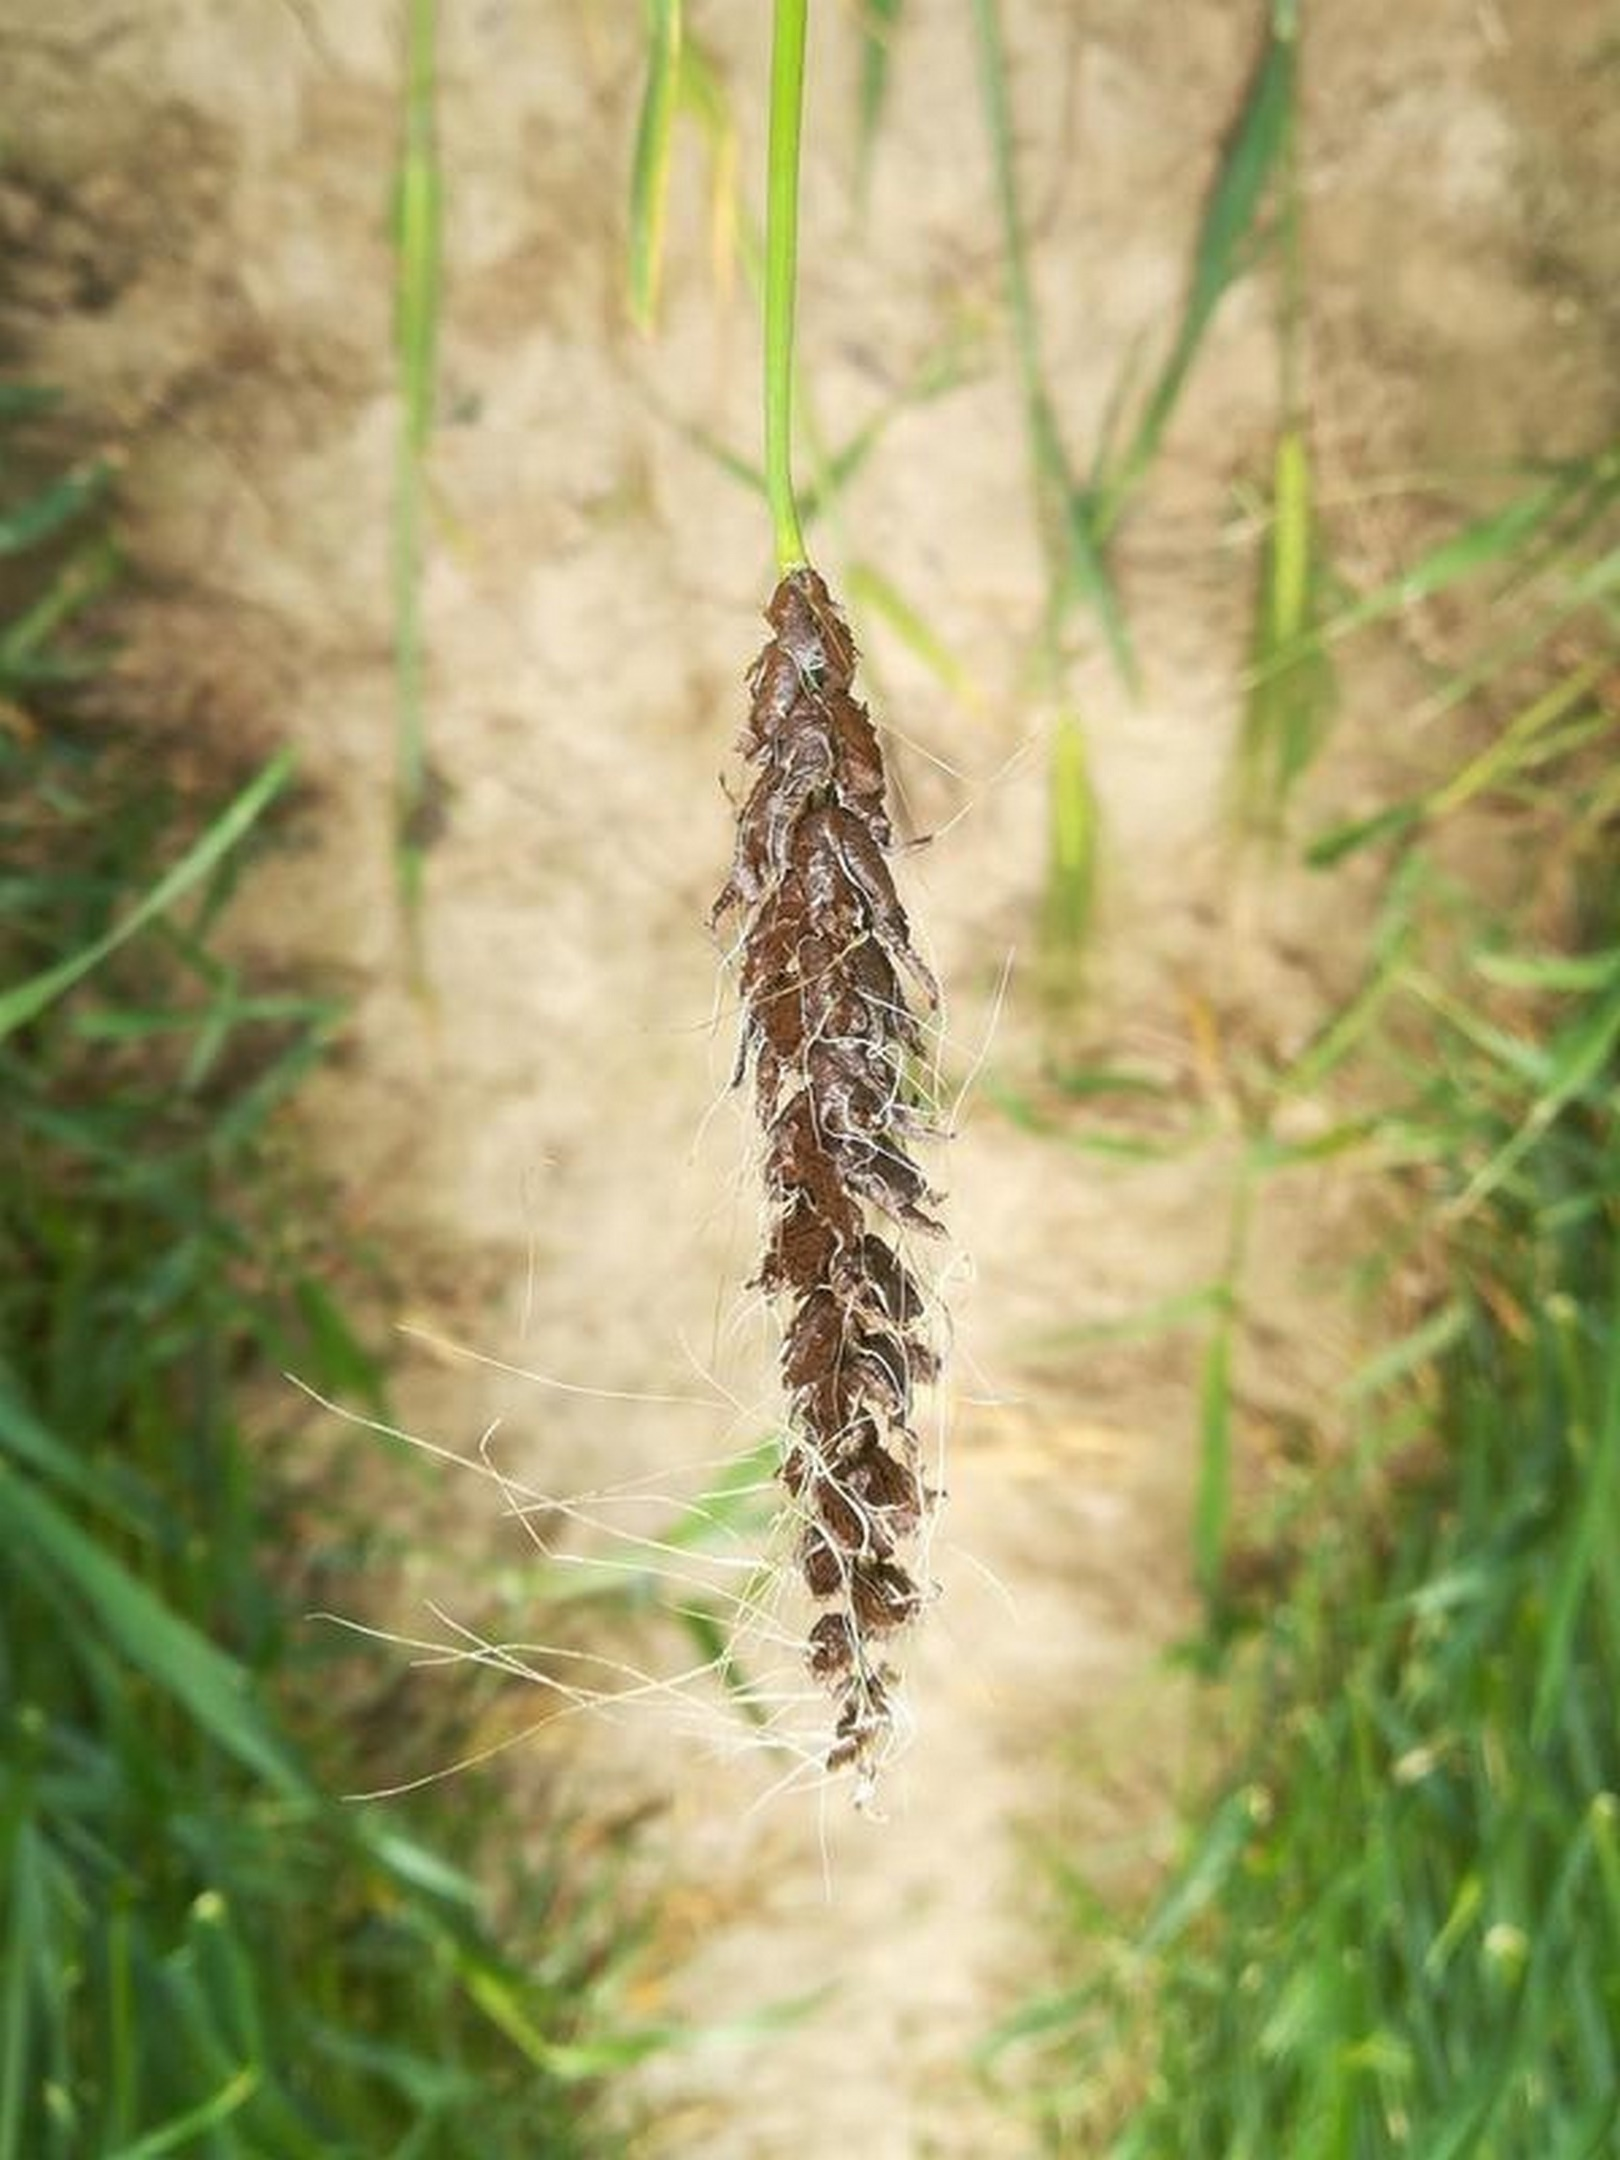Wheat Loose Smut: (703, 537, 1004, 1719)
